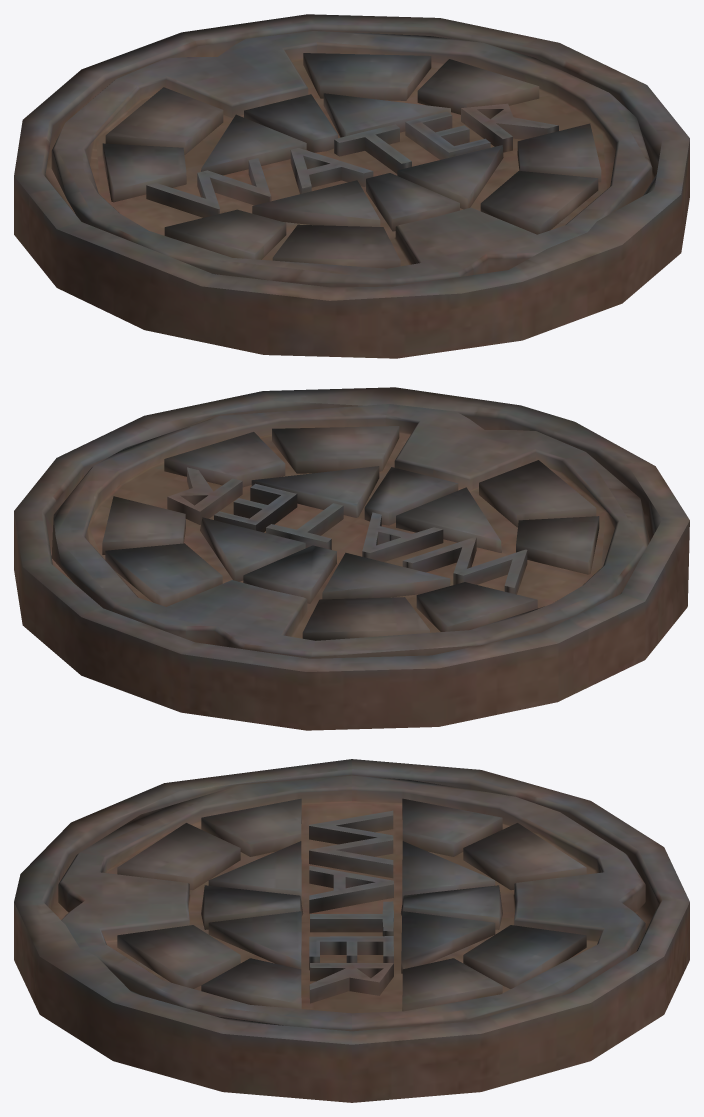
Rendered from water_manhole_cover.glb.
The picture shows the model from 3 angles, top to bottom: view 1: azimuth 30°, elevation 25°; view 2: azimuth 150°, elevation 25°; view 3: azimuth 270°, elevation 25°; orthographic projection.
Parts seen in each view (by area): view 1: water_manhole_cover, water_manhole_cover_frame; view 2: water_manhole_cover, water_manhole_cover_frame; view 3: water_manhole_cover, water_manhole_cover_frame.
Part boxes in pixels (x1,y1,x2,y2): water_manhole_cover: (51,31,652,287); water_manhole_cover_frame: (14,14,689,358); water_manhole_cover: (51,404,649,658); water_manhole_cover_frame: (14,387,689,730); water_manhole_cover: (58,775,645,1031); water_manhole_cover_frame: (14,759,689,1102).
Size of the model in its own units: 0.6908 by 0.0676 by 0.6908.
1 material, 1 textured.
